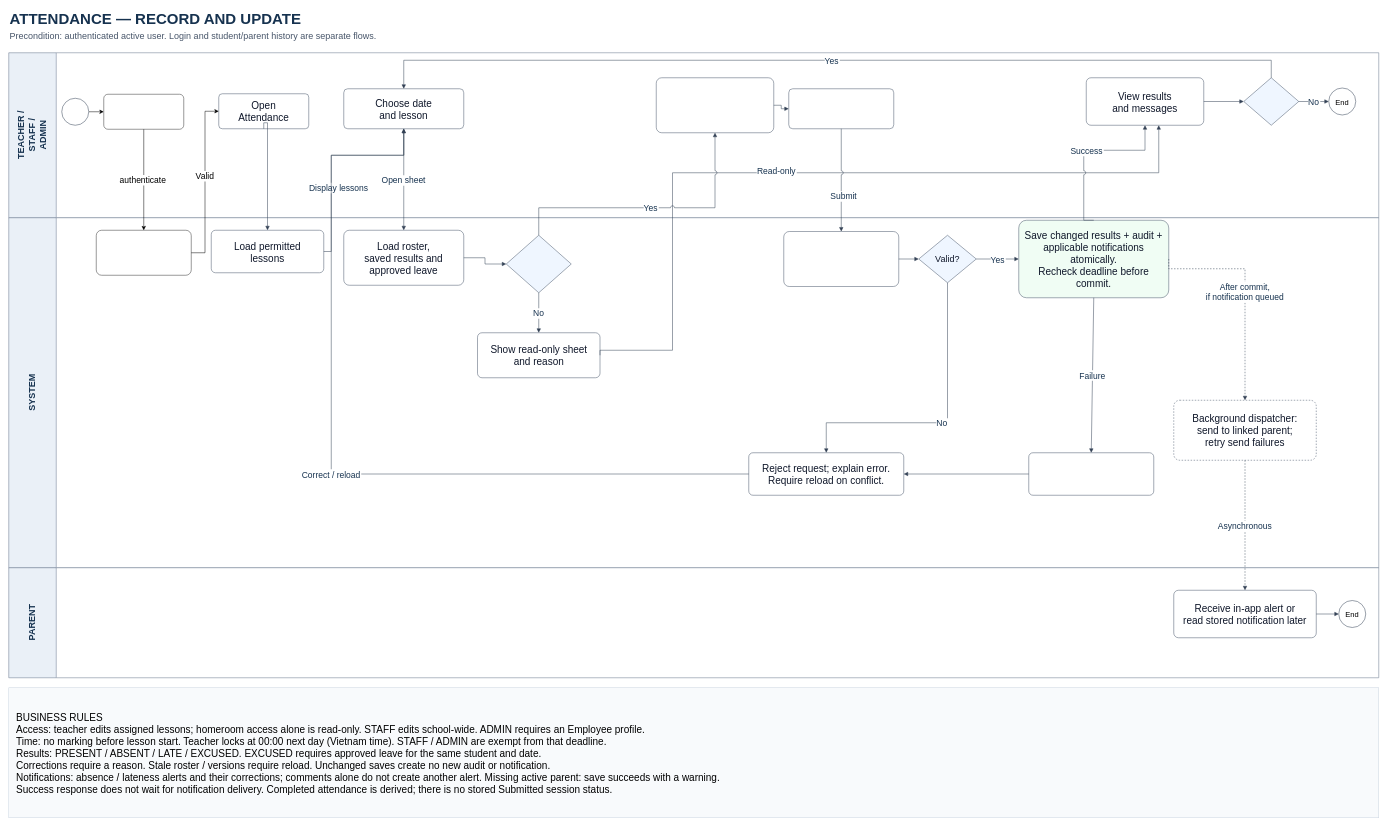
The diagram is 1388 pixels wide and 827 high, and some of its shapes have lost their labels. The shapes that lost their labels are listed below. From the top down, each one's centre as x and y in pixels, then its label:
the point at 75,111: Start
the point at 143,111: Log in
the point at 715,105: Mark every student; add notes / correction reason
the point at 841,108: Save attendance / changes
the point at 1271,101: Another lesson?
the point at 143,252: Authenticate user and teacher role
the point at 538,264: Editing allowed?
the point at 841,258: Recheck access, time, roster, results and versions
the point at 1091,473: Roll back; show error
